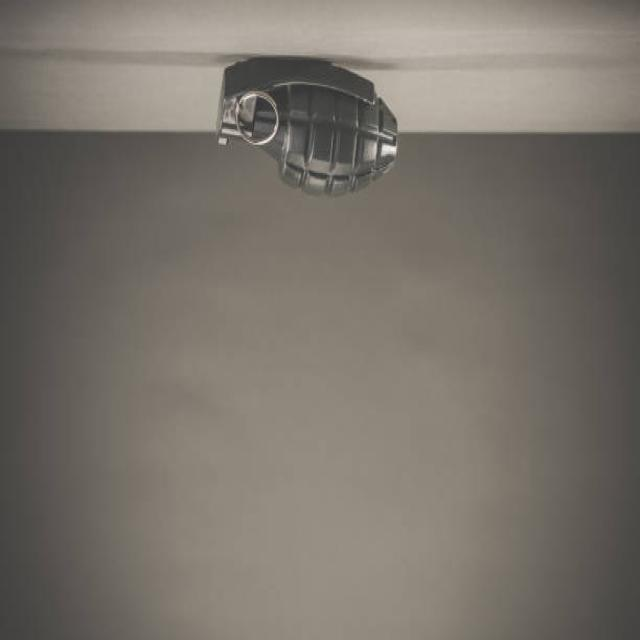grenade: (211, 48, 407, 205)
